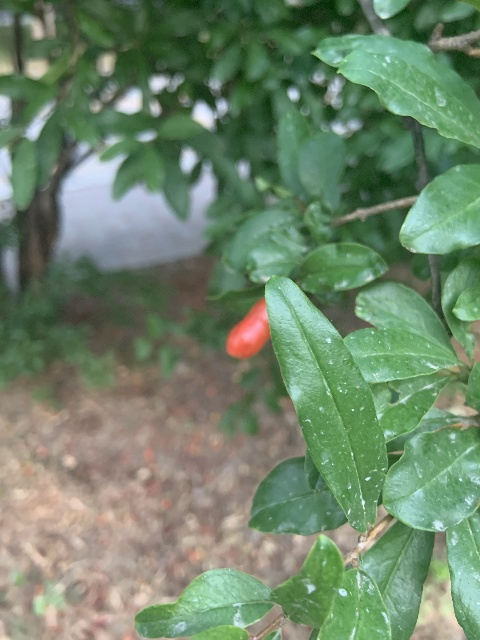bud: (226, 296, 270, 360)
